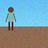person: (6, 7, 16, 30)
